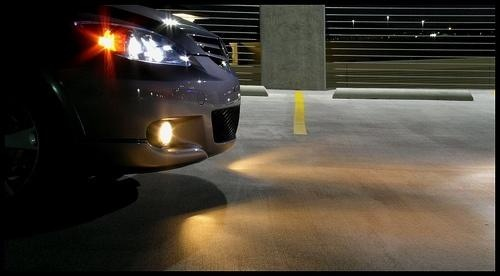car: (3, 2, 242, 178)
